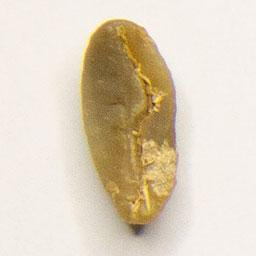longberry: (76, 15, 181, 230)
